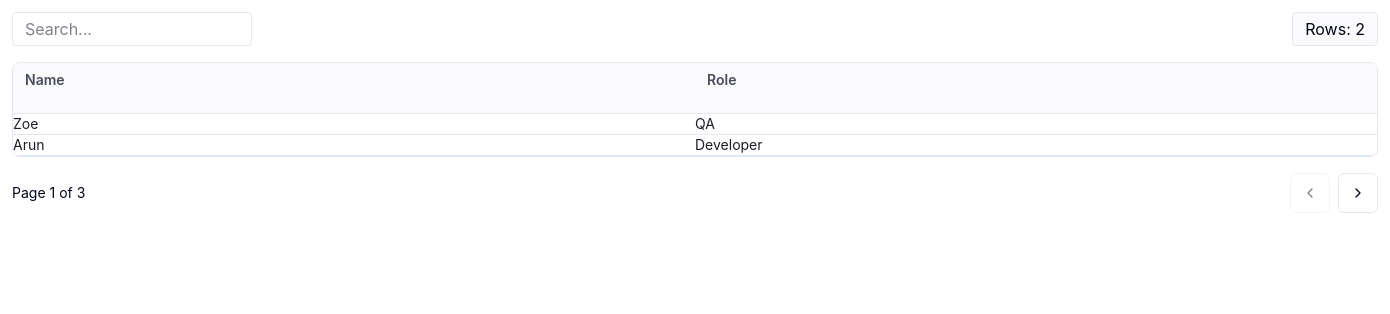
Test case: Table › updates rows per page from listbox options
This screenshot has width=1390, height=314.
Expected: the text "Page 1 of 3" is shown, top-left (12, 182), bottom-right (85, 202)
Click the button "Rows: 2". click: (1335, 29)
box: top-left (1292, 12), bottom-right (1378, 46)
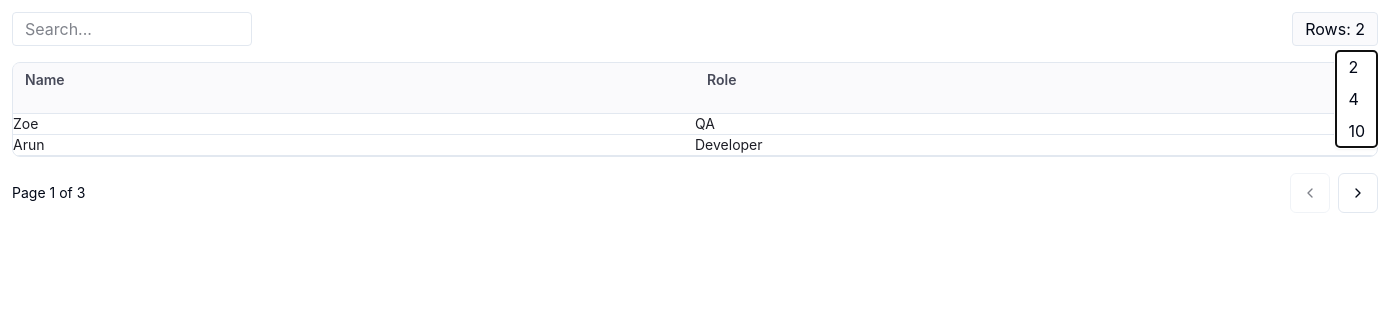
Click the option "10". click: (1357, 131)
box: top-left (1348, 121), bottom-right (1365, 141)
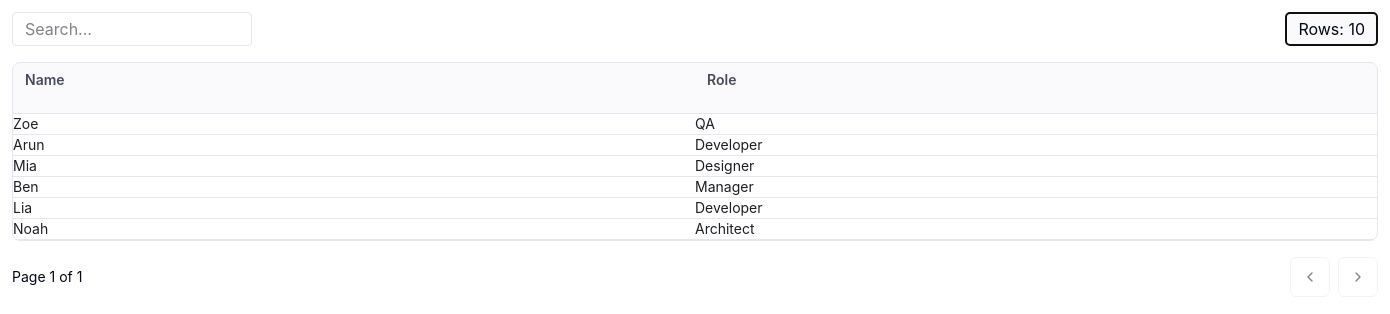
Expected: the button "Rows: 10" is shown, top-left (1285, 12), bottom-right (1378, 46)
Expected: the text "Page 1 of 1" is shown, top-left (12, 266), bottom-right (82, 286)
